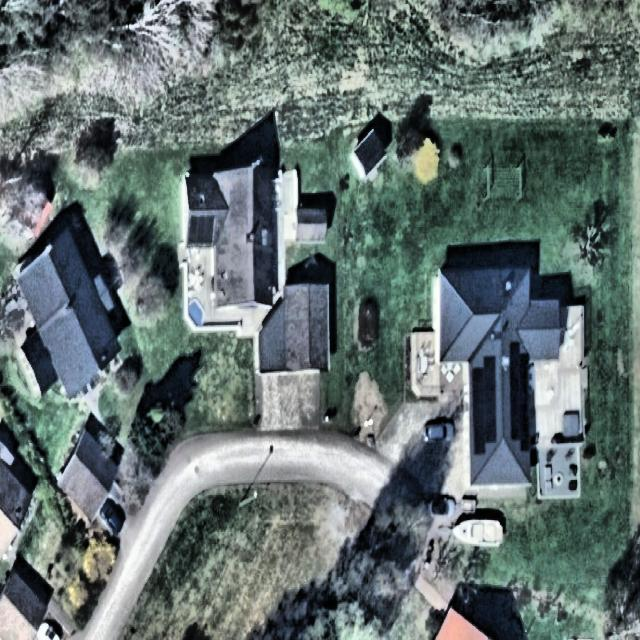roof_pv: (468, 354, 498, 456), (510, 341, 531, 452), (188, 216, 215, 244)
